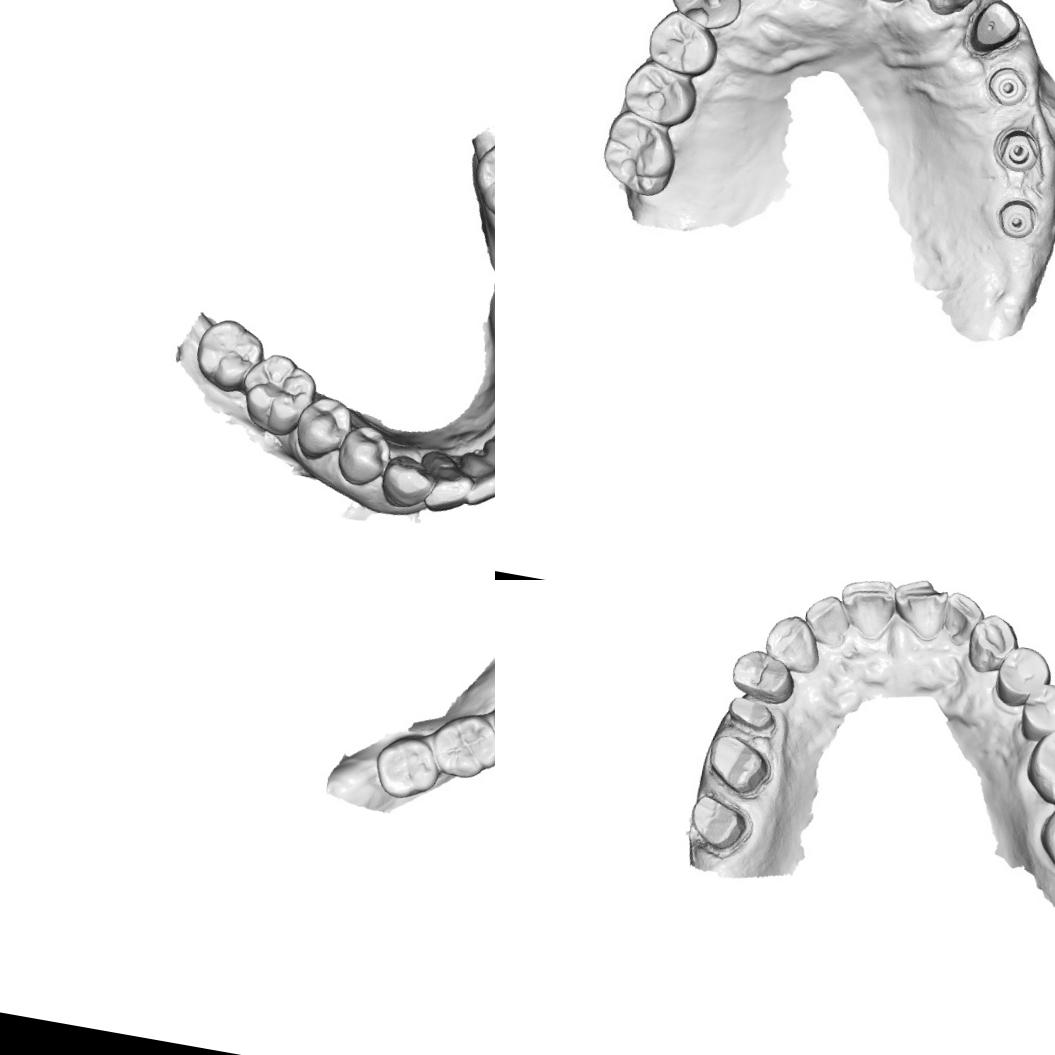canine: (759, 610, 826, 676), (962, 610, 1023, 680), (376, 448, 436, 516), (668, 0, 739, 25)
crown: (679, 788, 759, 865), (698, 730, 779, 802), (967, 0, 1021, 64), (722, 693, 782, 742)
implant: (988, 120, 1048, 178), (993, 192, 1042, 246), (986, 62, 1032, 109)
incisor: (833, 580, 900, 642), (886, 580, 951, 643), (416, 450, 476, 518), (798, 587, 855, 650), (937, 588, 987, 649), (461, 456, 495, 512), (915, 0, 987, 24), (480, 437, 495, 494)
molar: (236, 350, 320, 438), (596, 111, 680, 192), (190, 313, 268, 397), (369, 728, 445, 804), (426, 706, 495, 784), (1019, 715, 1055, 813), (466, 132, 495, 224), (1033, 783, 1055, 884)
premolar: (288, 390, 354, 466), (620, 58, 695, 124), (642, 10, 717, 75), (725, 644, 800, 708), (990, 640, 1055, 712), (334, 420, 394, 490), (1014, 677, 1055, 749)
